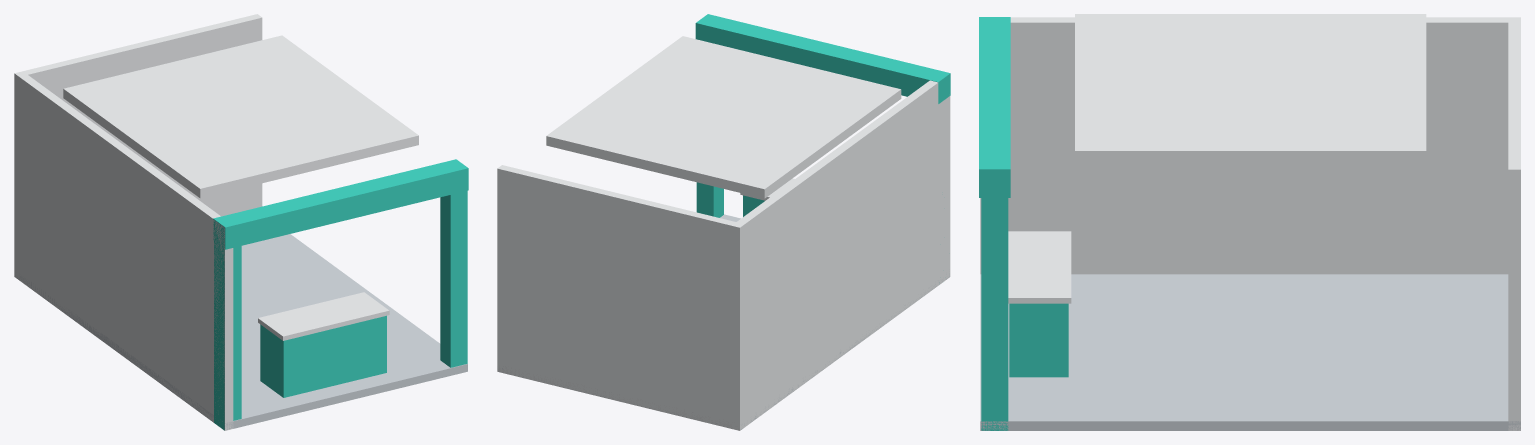
3 views of the same model, side by side, from view 1: azimuth 30°, elevation 25°; view 2: azimuth 150°, elevation 25°; view 3: azimuth 270°, elevation 25° (orthographic). The views are drawn at different scales.
Visible parts, largest first — view 1: Exhibition Booth Concept; view 2: Exhibition Booth Concept; view 3: Exhibition Booth Concept.
Part boxes in pixels (x1,y1,x2,y2): Exhibition Booth Concept: (14, 14, 468, 430); Exhibition Booth Concept: (497, 14, 950, 430); Exhibition Booth Concept: (979, 14, 1520, 430).
Bounding box in the file's own units: 4 × 3.34 × 6.02.
